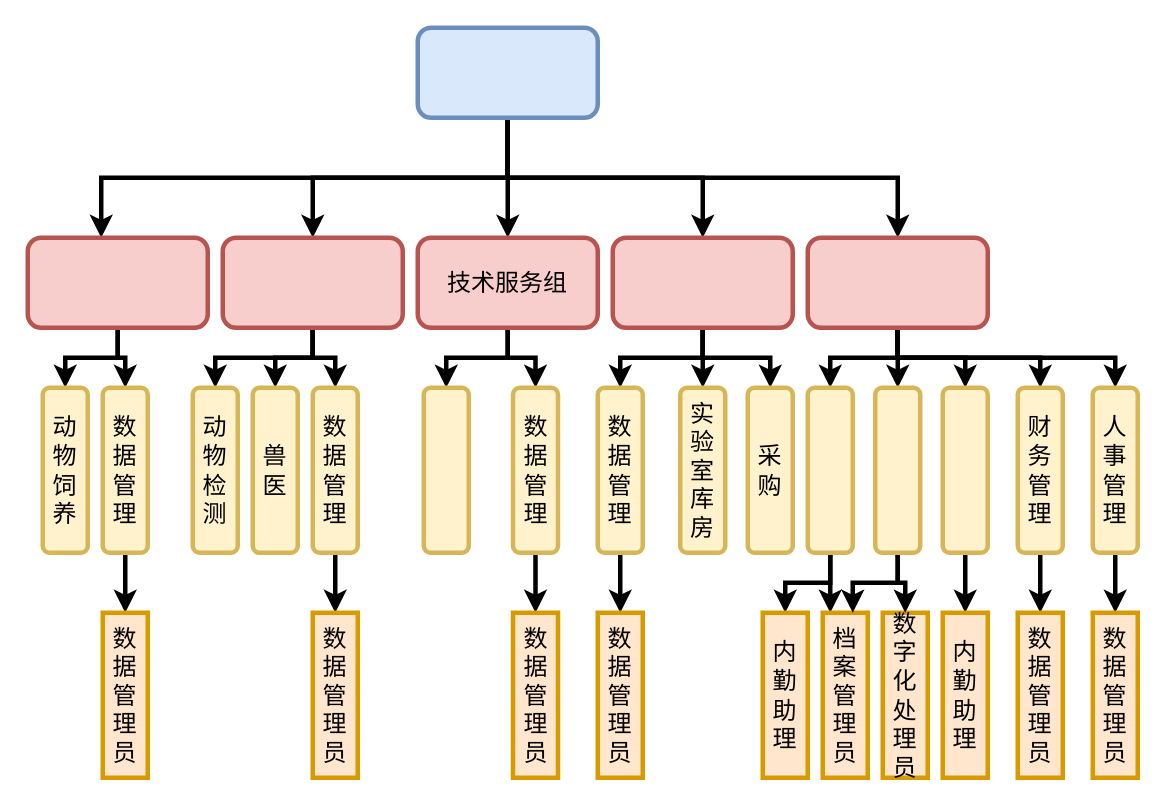
Some shapes in this 1166 by 807 pixel diagram are drawn without their labels. Here are the shapes that lost their labels. From the top down, the centre of each, then its label:
(x=507, y=72): 动物实验中心
(x=117, y=282): 动物饲养管理组
(x=312, y=282): 质量监控组
(x=702, y=282): 后勤保障组
(x=897, y=282): 综合办公室
(x=445, y=469): 实验室
(x=829, y=469): 档案室
(x=897, y=469): 录入室
(x=964, y=469): 销毁室
